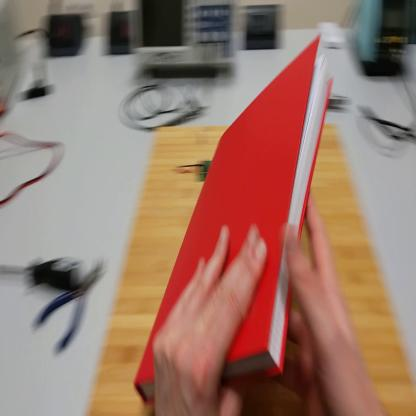hand: (155, 220, 268, 416), (282, 199, 378, 415)
oscilloscope: (136, 3, 238, 77)
pliers: (36, 258, 108, 353)
power supply: (2, 7, 18, 114)
register: (135, 26, 341, 397)
socket: (46, 8, 85, 59), (108, 11, 135, 58)
welder station: (352, 5, 410, 80)
working area: (89, 113, 416, 416)
